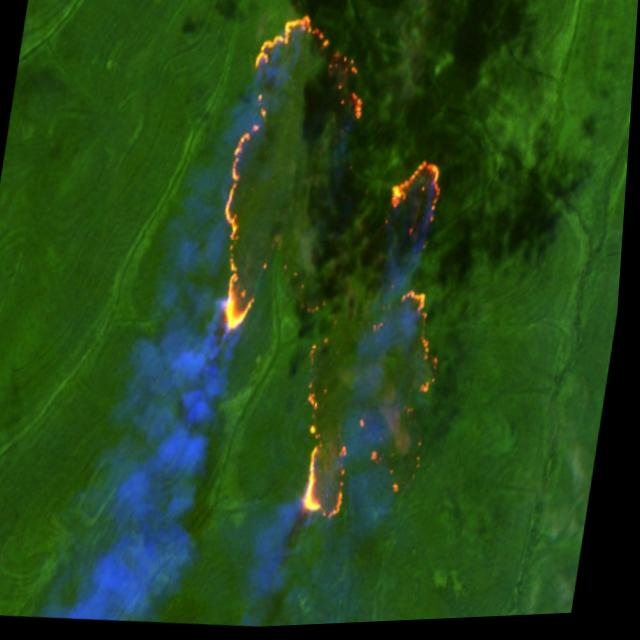fire: (176, 0, 496, 538)
